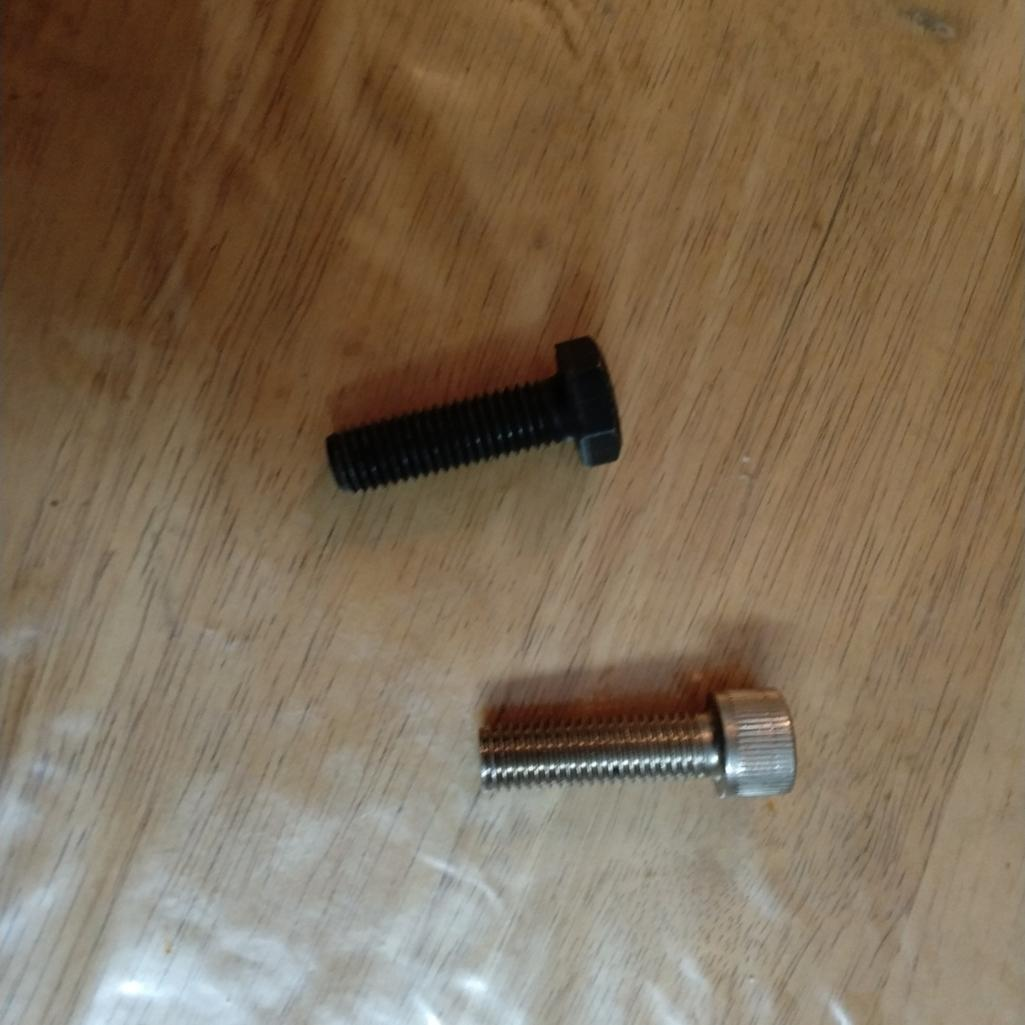screwtype1silver: (438, 667, 826, 830)
screwtype2black: (274, 319, 646, 516)
